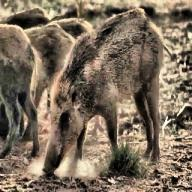boar: (41, 6, 166, 176), (0, 21, 40, 160)
